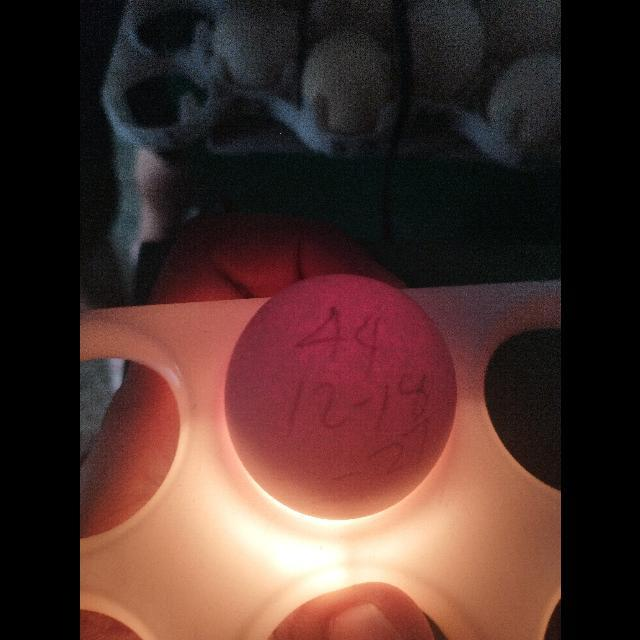Infertile: (220, 267, 464, 523)
